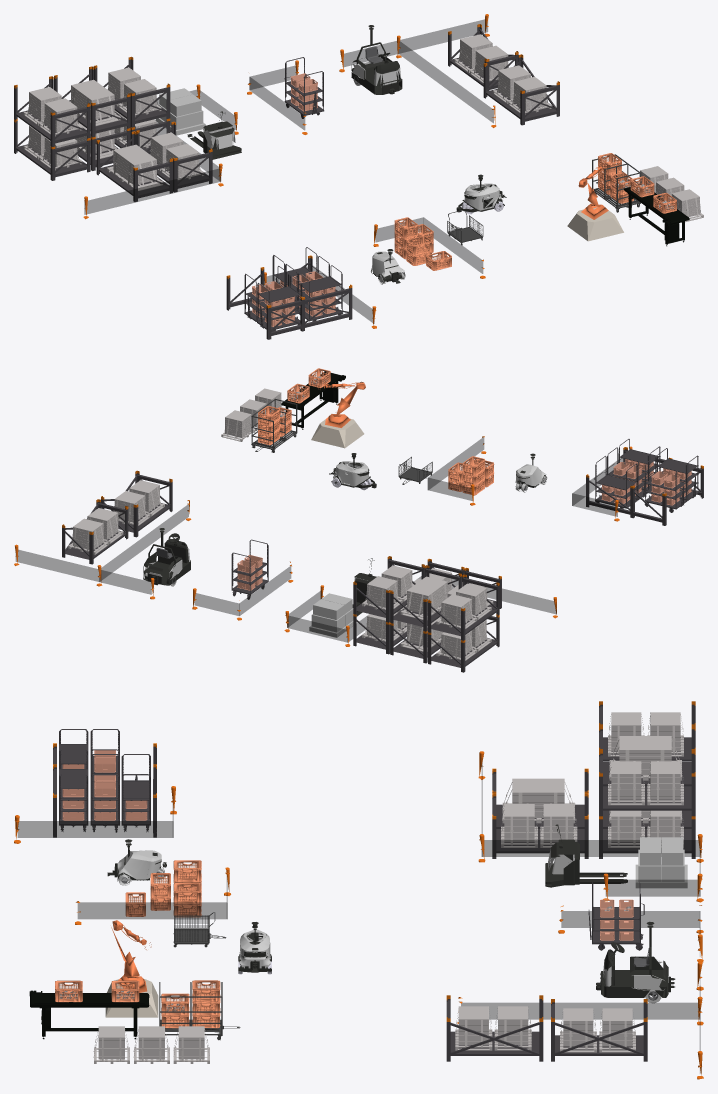
The picture shows the model from 3 angles, top to bottom: view 1: azimuth 30°, elevation 25°; view 2: azimuth 150°, elevation 25°; view 3: azimuth 270°, elevation 25°; orthographic projection. The views are drawn at different scales.
Parts seen in each view (by area): view 1: White#2, Barricade, Shader#116; view 2: White#2, Barricade, Shader#116; view 3: White#2, Barricade, Shader#116.
Boxes of the visible parts, x1=… form: White#2: x1=14, y1=14, x2=703, y2=339; Barricade: x1=84, y1=19, x2=493, y2=323; Shader#116: x1=394, y1=153, x2=676, y2=270; White#2: x1=14, y1=371, x2=703, y2=672; Barricade: x1=16, y1=437, x2=622, y2=642; Shader#116: x1=258, y1=368, x2=494, y2=495; White#2: x1=14, y1=701, x2=703, y2=1079; Barricade: x1=18, y1=762, x2=700, y2=1050; Shader#116: x1=55, y1=860, x2=220, y2=1028.
Bounding box in the file's own units: 6.53 × 0.859 × 6.3.
Materials: 3 (3 with a texture image).
